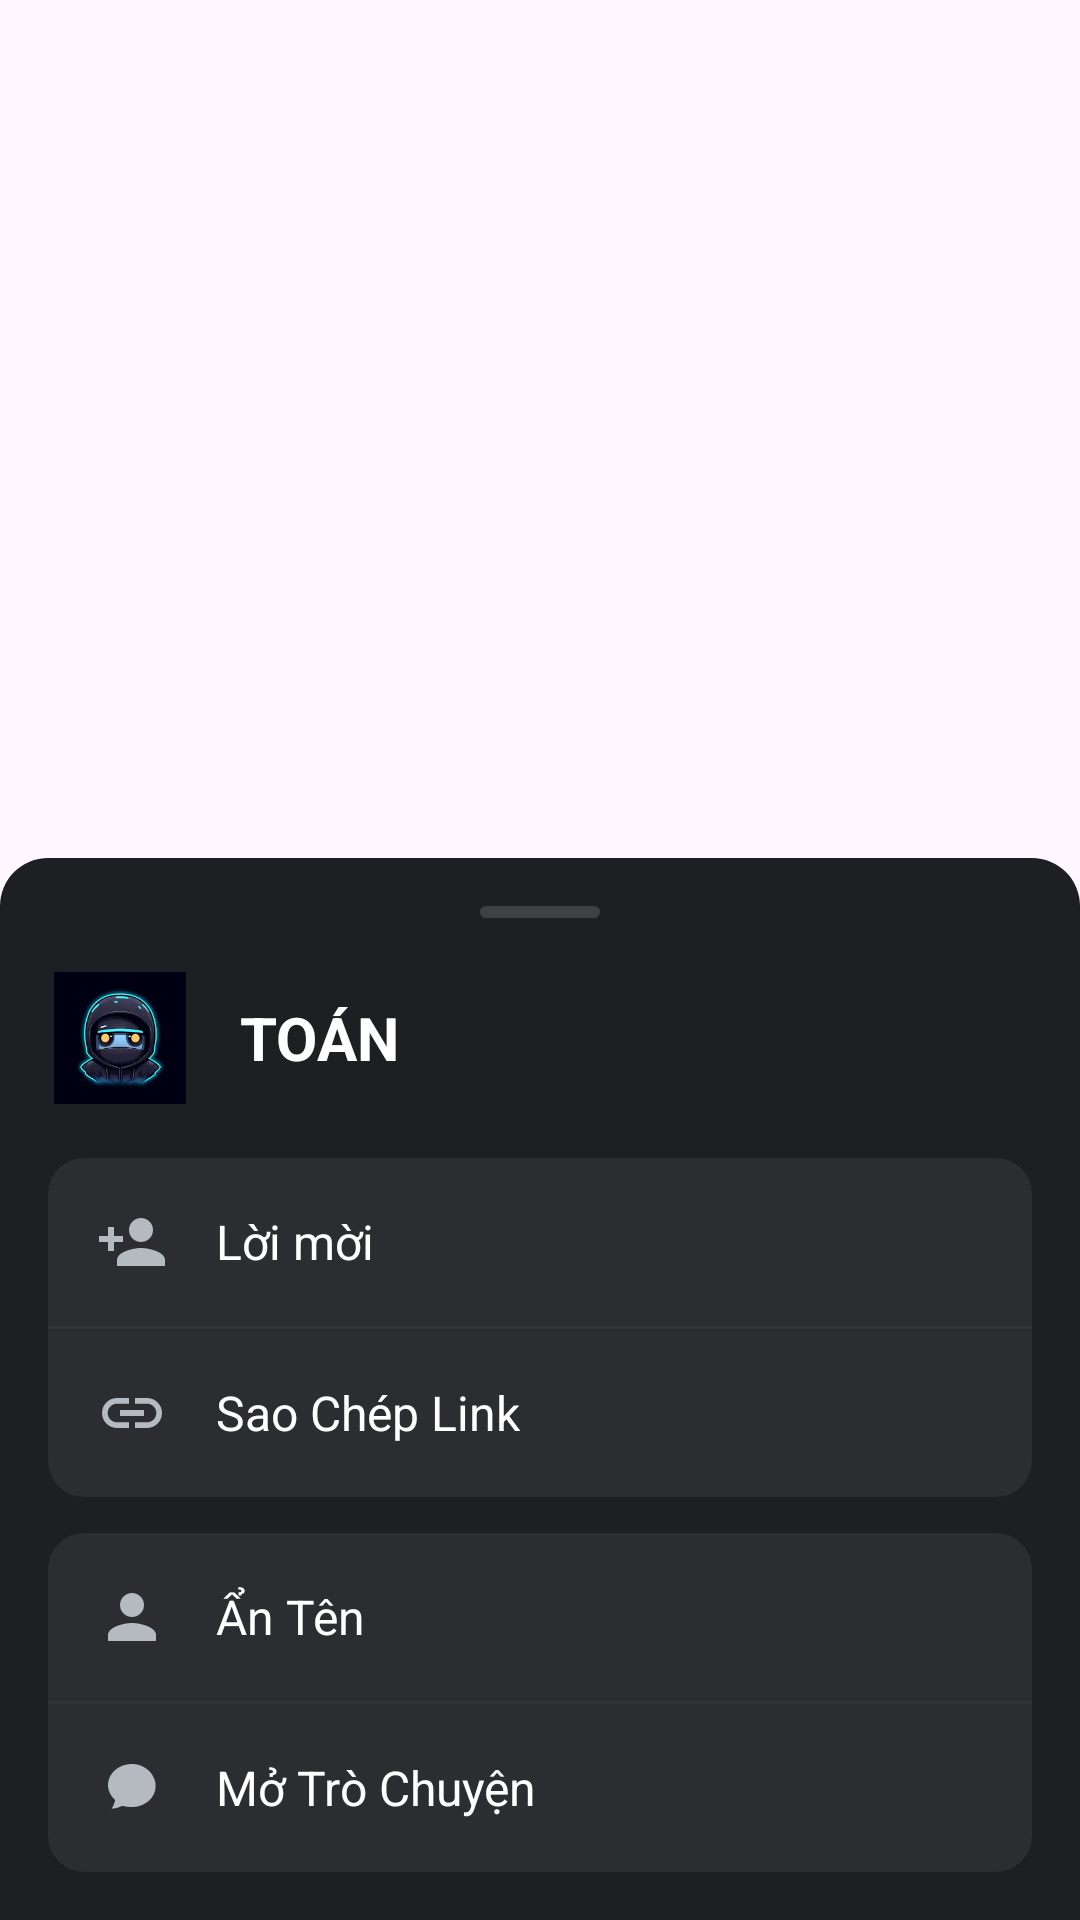

Point at icon controls on the screen. Image size 1080x1920, points as (x,y).
chat bubble: (132,1786)
person: (132,1617)
person add: (132,1242)
